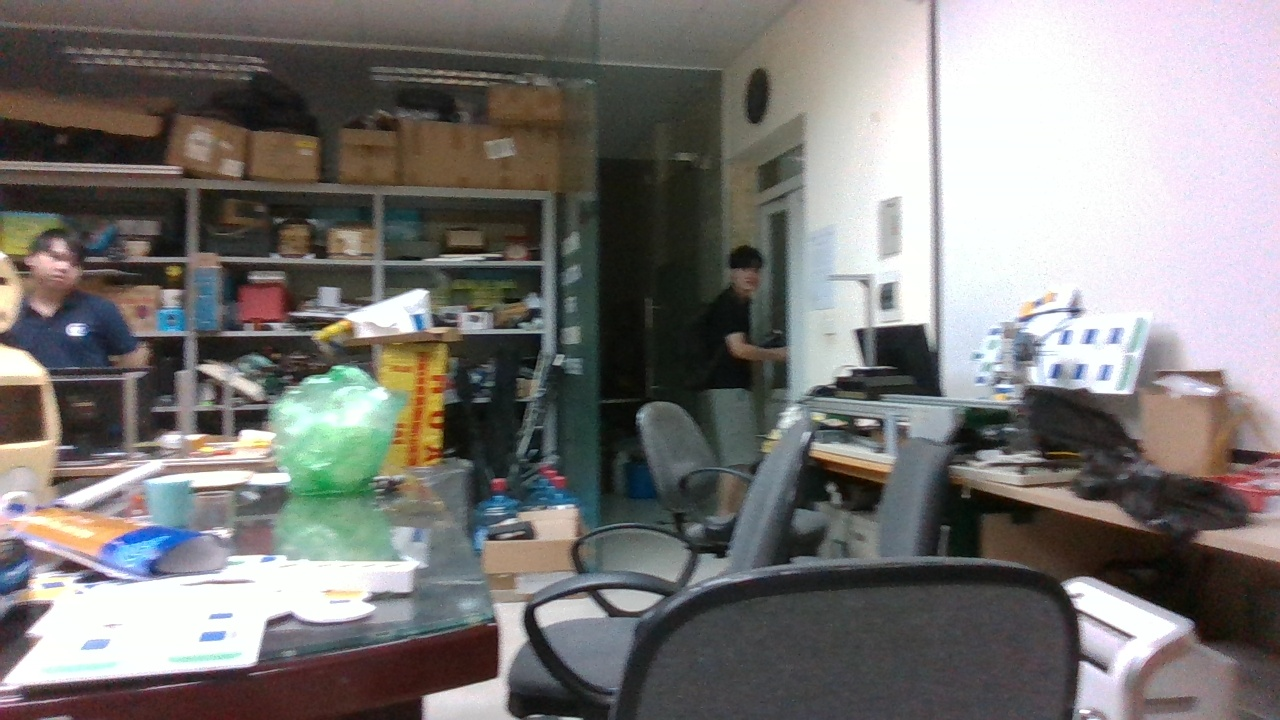person: (6, 246, 148, 438)
